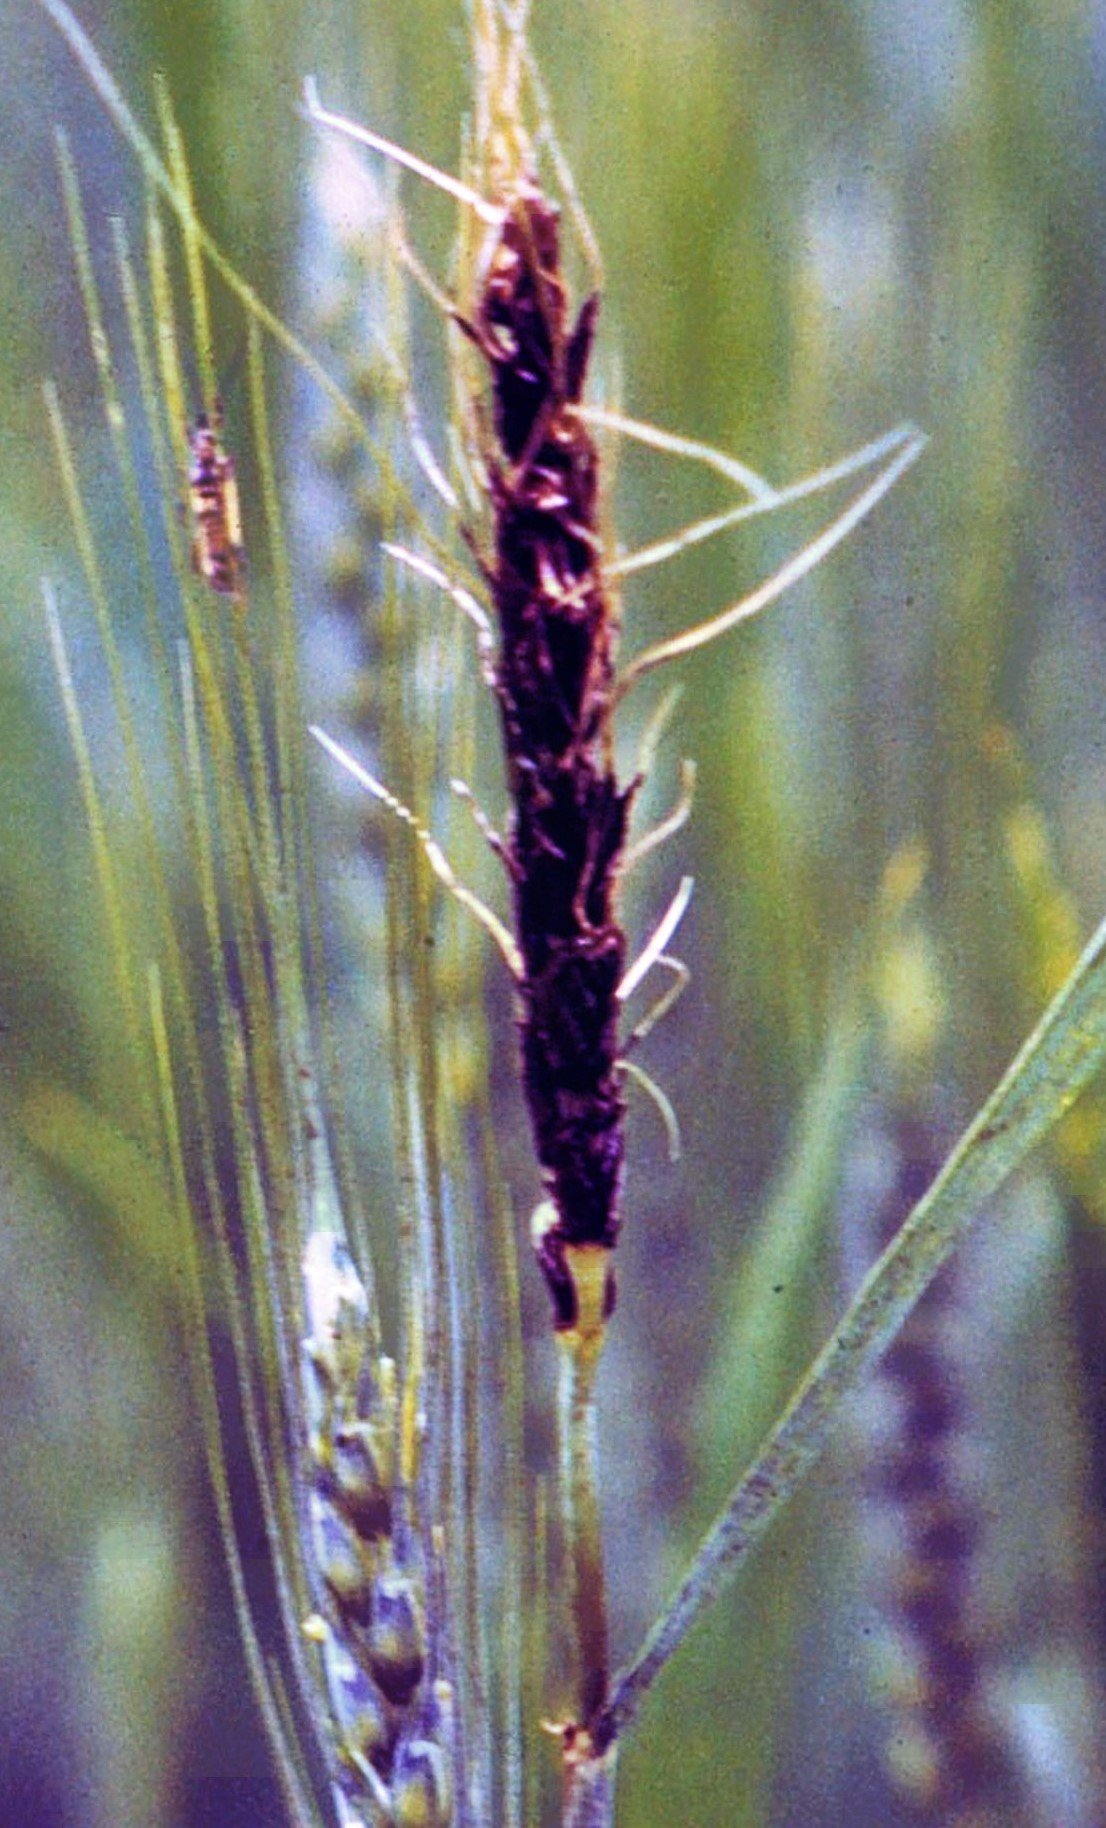Wheat Loose Smut: (379, 192, 808, 1294)
